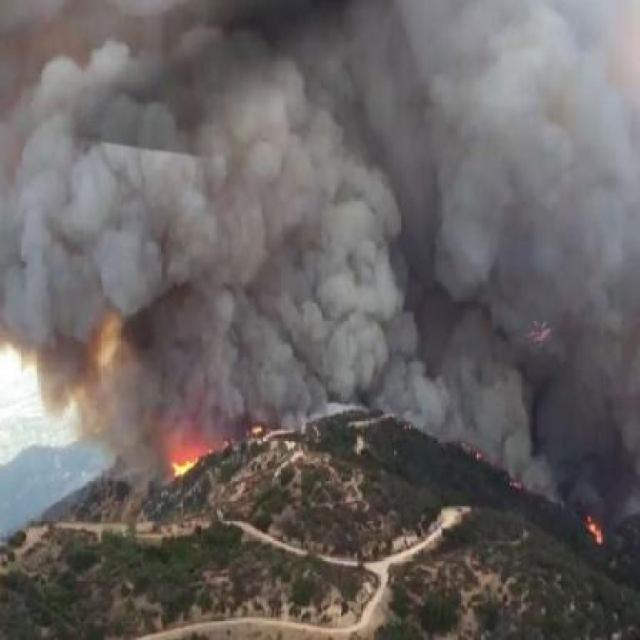Fire: (164, 436, 219, 482)
Smoke: (0, 0, 638, 352), (119, 349, 392, 414), (392, 352, 620, 417), (506, 418, 623, 474), (536, 472, 638, 520), (410, 416, 516, 450), (37, 352, 88, 406), (90, 366, 116, 444)
